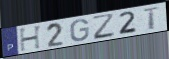2: (46, 22, 66, 48), (119, 10, 139, 36)
G: (70, 18, 90, 42)
H: (18, 24, 43, 53)
T: (141, 6, 161, 31)
Z: (91, 12, 117, 41)
